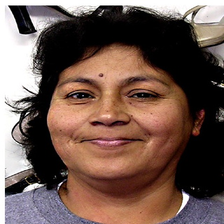no_mask: (45, 54, 195, 185)
